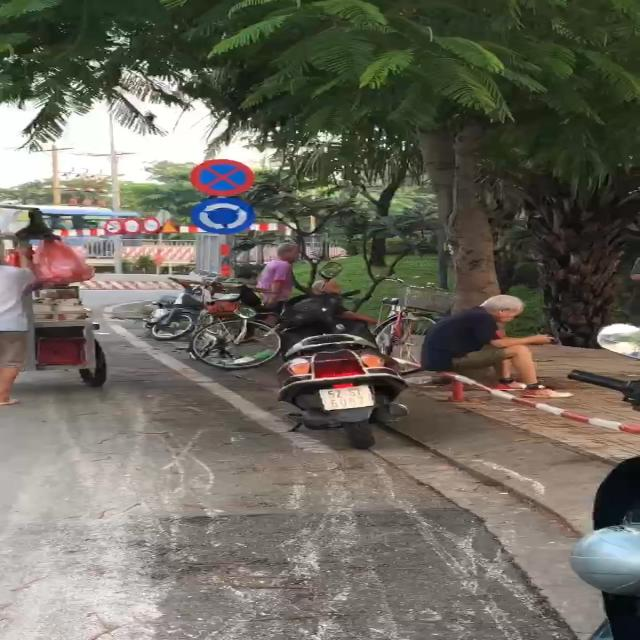Bien bao cam dung xe va do xe: (186, 158, 264, 198)
Bien bao noi giao nhau chay theo vong xuyen: (184, 198, 260, 238)
